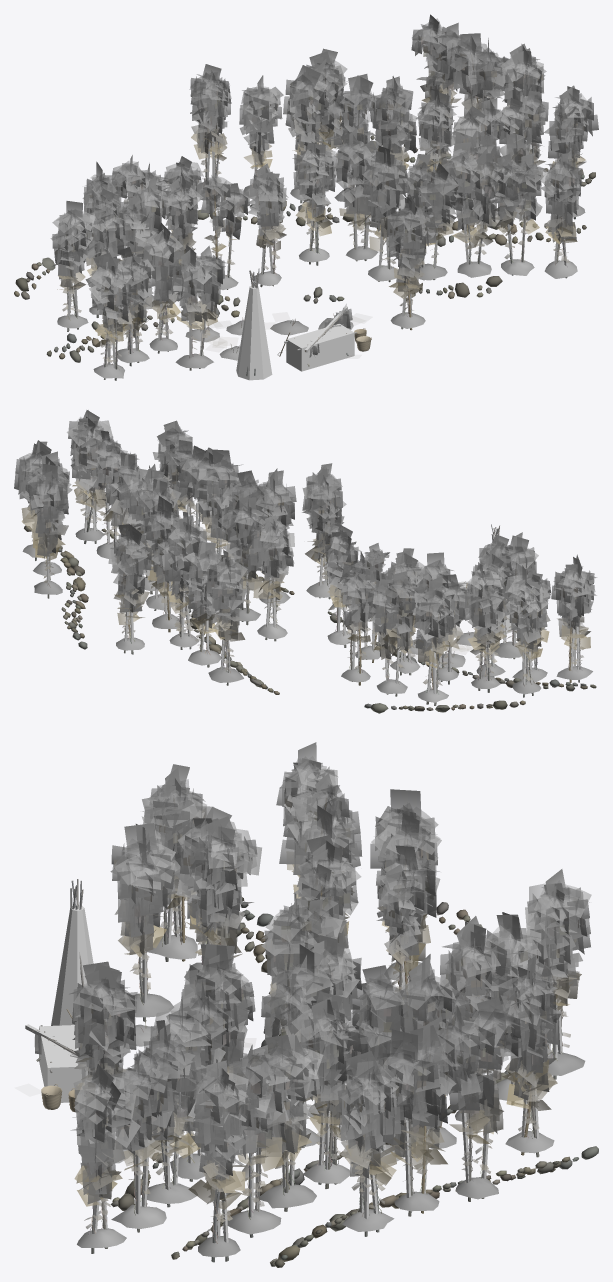
File: hop_garden.glb
The picture shows the model from 3 angles, top to bottom: view 1: azimuth 30°, elevation 25°; view 2: azimuth 150°, elevation 25°; view 3: azimuth 270°, elevation 25°; orthographic projection. The views are drawn at different scales.
Visible parts, largest first — view 1: Hop bines, Hop hills, Pole solids, Hop poles / tmb_pole, Crib solid, Stook solid, Bank stones +0-1, Bank stones -1-1, Hop stems and low leaves +0-1 / hop_leaf, Hop stems and low leaves -1-1 / hop_leaf, Bank stones +0+0, Hop stems and low leaves +0-1 / hop_bine (+1 smaller); view 2: Hop bines, Hop hills, Pole solids, Hop poles / tmb_pole, Bank stones +0+0, Bank stones -1+0, Hop stems and low leaves +0+0 / hop_leaf, Bank stones +0-1, Bank stones -1-1, Hop stems and low leaves +0-1 / hop_leaf, Hop stems and low leaves -1-1 / hop_leaf; view 3: Hop bines, Hop hills, Pole solids, Hop poles / tmb_pole, Stook solid, Bank stones +0-1, Crib solid, Hop stems and low leaves +0-1 / hop_leaf, Bank stones +0+0, Bank stones -1-1, Hop stems and low leaves +0+0 / hop_leaf, Hop stems and low leaves +0-1 / hop_bine.
Part boxes in pixels (bbox=[...]): Hop bines: bbox=[50, 14, 598, 345]; Hop hills: bbox=[57, 135, 585, 378]; Pole solids: bbox=[67, 89, 573, 368]; Hop poles / tmb_pole: bbox=[67, 33, 575, 380]; Crib solid: bbox=[286, 324, 354, 371]; Stook solid: bbox=[236, 285, 272, 380]; Bank stones +0-1: bbox=[233, 168, 595, 306]; Bank stones -1-1: bbox=[46, 295, 239, 362]; Hop stems and low leaves +0-1 / hop_leaf: bbox=[227, 166, 577, 310]; Hop stems and low leaves -1-1 / hop_leaf: bbox=[62, 240, 222, 362]; Bank stones +0+0: bbox=[197, 135, 460, 226]; Hop stems and low leaves +0-1 / hop_bine: bbox=[226, 140, 567, 317]; Hop bines: bbox=[14, 410, 597, 668]; Hop hills: bbox=[22, 528, 592, 702]; Pole solids: bbox=[34, 485, 579, 694]; Hop poles / tmb_pole: bbox=[35, 446, 580, 705]; Bank stones +0+0: bbox=[61, 567, 279, 694]; Bank stones -1+0: bbox=[364, 700, 525, 713]; Hop stems and low leaves +0+0 / hop_leaf: bbox=[43, 555, 234, 670]; Bank stones +0-1: bbox=[24, 525, 380, 646]; Bank stones -1-1: bbox=[393, 651, 596, 691]; Hop stems and low leaves +0-1 / hop_leaf: bbox=[32, 493, 370, 630]; Hop stems and low leaves -1-1 / hop_leaf: bbox=[370, 618, 584, 681]; Hop bines: bbox=[67, 742, 591, 1209]; Hop hills: bbox=[77, 934, 585, 1257]; Pole solids: bbox=[92, 893, 562, 1242]; Hop poles / tmb_pole: bbox=[91, 798, 562, 1262]; Stook solid: bbox=[51, 905, 93, 1025]; Bank stones +0-1: bbox=[110, 1049, 379, 1267]; Crib solid: bbox=[39, 1025, 87, 1102]; Hop stems and low leaves +0-1 / hop_leaf: bbox=[84, 1028, 385, 1232]; Bank stones +0+0: bbox=[379, 1069, 598, 1208]; Bank stones -1-1: bbox=[235, 897, 287, 1047]; Hop stems and low leaves +0+0 / hop_leaf: bbox=[403, 999, 570, 1181]; Hop stems and low leaves +0-1 / hop_bine: bbox=[88, 1102, 386, 1243].
Bounding box in the file's own units: 25.05 × 7.92 × 14.8.
